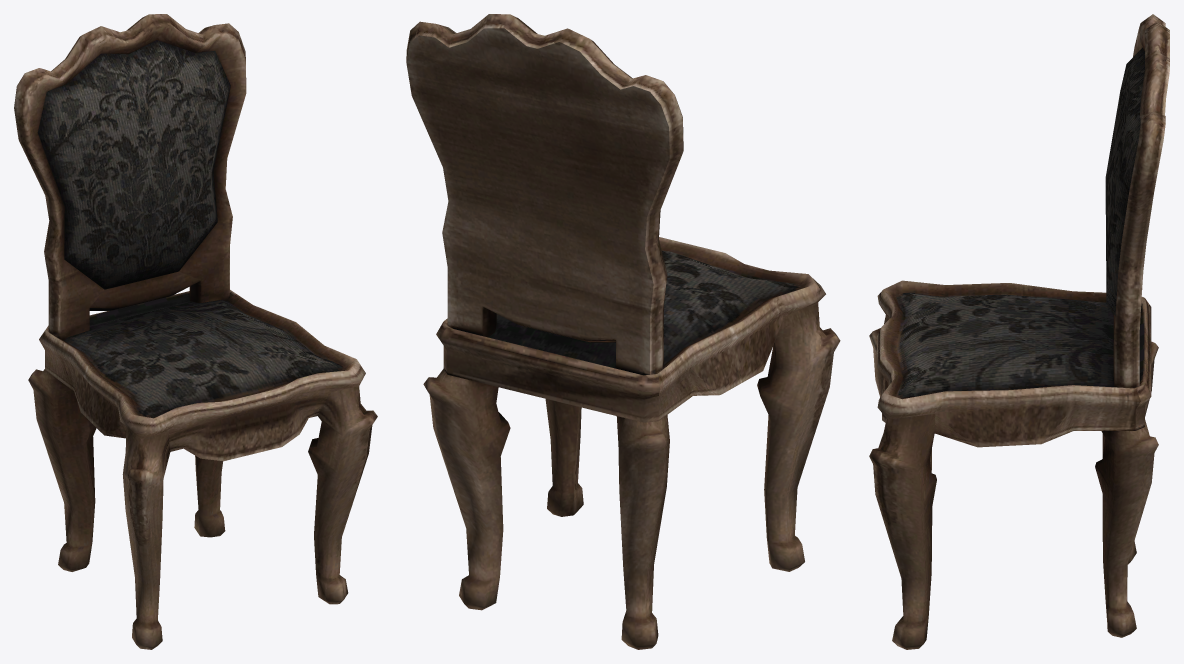
File: chair_nice07.dae
3 views of the same model, side by side, from view 1: azimuth 30°, elevation 25°; view 2: azimuth 150°, elevation 25°; view 3: azimuth 270°, elevation 25° (orthographic). The views are drawn at different scales.
Visible parts, largest first — view 1: chair_nice01_Mesh; view 2: chair_nice01_Mesh; view 3: chair_nice01_Mesh.
Boxes of the visible parts, x1,y1,x2,y2 form: chair_nice01_Mesh: (14, 14, 377, 649); chair_nice01_Mesh: (406, 14, 840, 649); chair_nice01_Mesh: (869, 14, 1169, 649).
Size of the model in its own units: 0.6539 by 1.31 by 0.6397.
